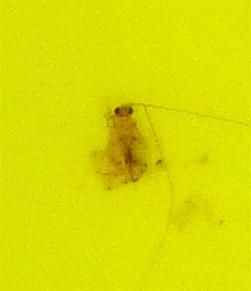Plecoptera: (100, 100, 151, 191)
